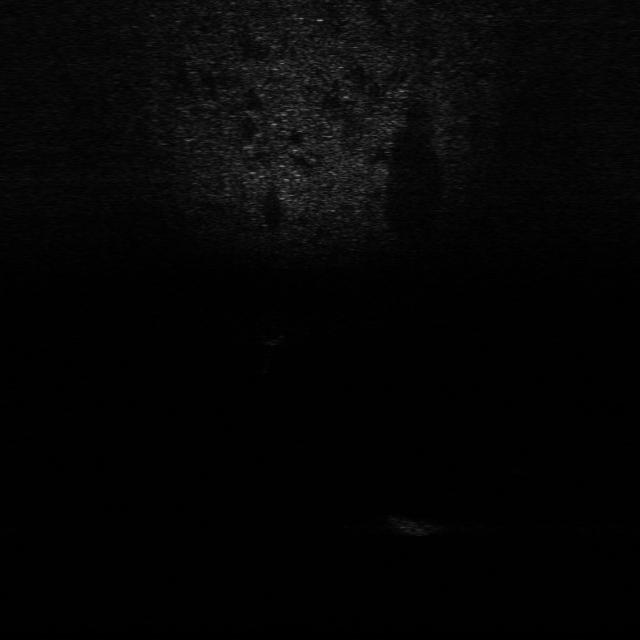ball: (257, 324, 289, 348)
metal bucket: (384, 505, 454, 538)
